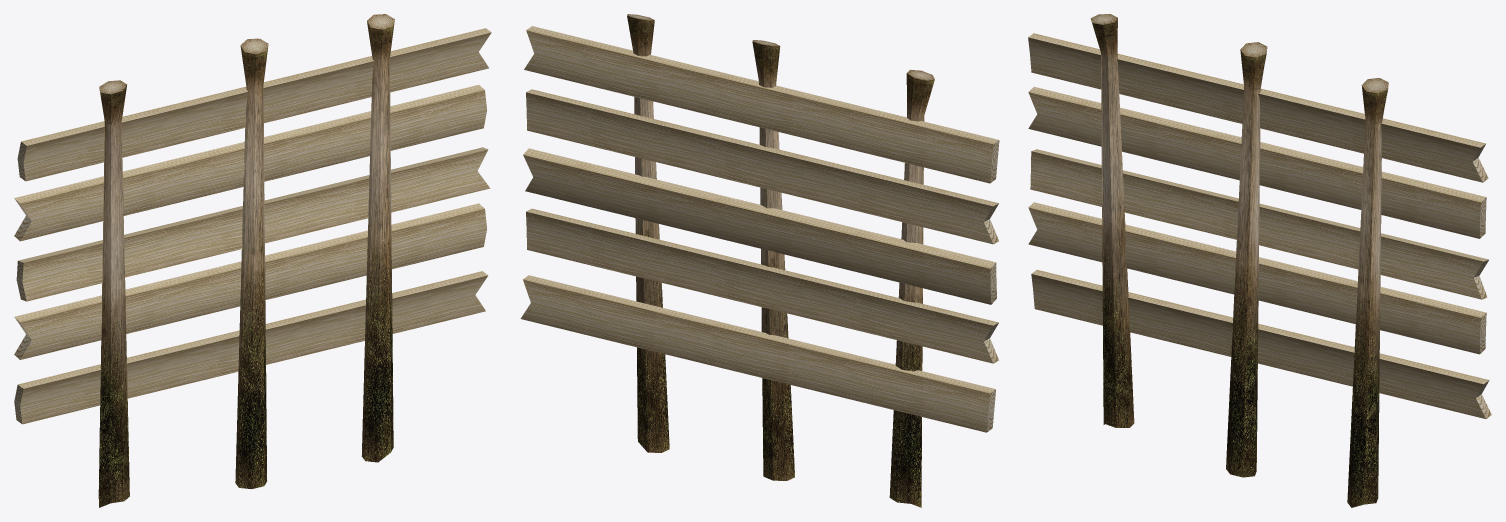
Rendered from p2_platform_wall.fbx.
3 views of the same model, side by side, from view 1: azimuth 30°, elevation 25°; view 2: azimuth 150°, elevation 25°; view 3: azimuth 330°, elevation 25° (orthographic). The views are drawn at different scales.
Parts seen in each view (by area): view 1: Group000Mat; view 2: Group000Mat; view 3: Group000Mat.
Part boxes in pixels (bbox=[...]): Group000Mat: bbox=[14, 14, 491, 507]; Group000Mat: bbox=[520, 14, 999, 507]; Group000Mat: bbox=[1028, 14, 1491, 507].
Bounding box in the file's own units: 746 × 667 × 58.97.
